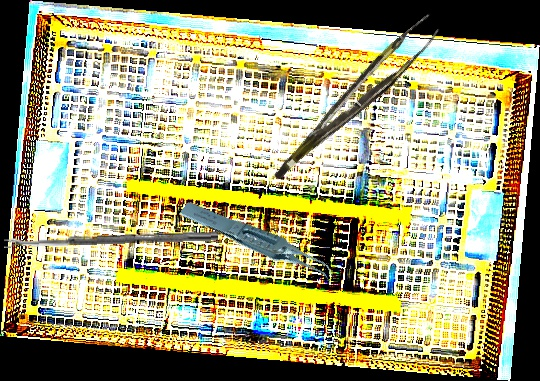Surgical Spoon: (3, 230, 219, 248)
Tissue Forceps: (255, 12, 452, 181), (178, 173, 338, 315)
